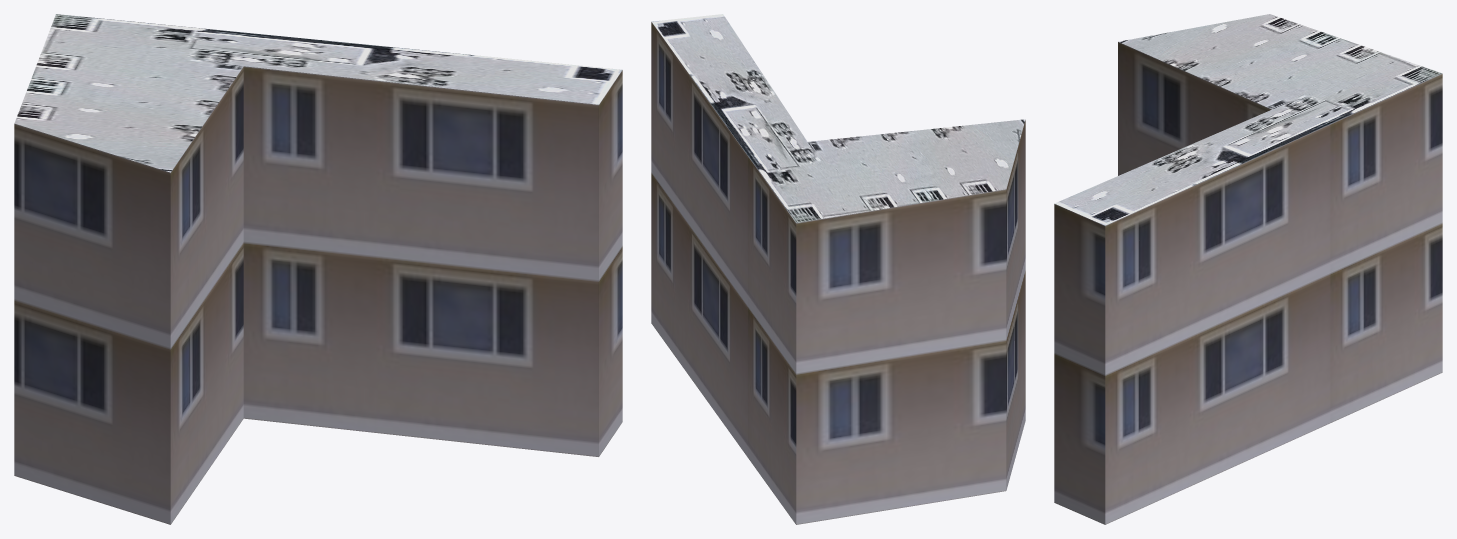
File: ResTex__3571.fbx
The picture shows the model from 3 angles, left to right: view 1: azimuth 30°, elevation 25°; view 2: azimuth 150°, elevation 25°; view 3: azimuth 270°, elevation 25°; orthographic projection. The views are drawn at different scales.
Parts seen in each view (by area): view 1: CityEngineMaterial_21_m, CityEngineMaterial_4_m; view 2: CityEngineMaterial_21_m, CityEngineMaterial_4_m; view 3: CityEngineMaterial_21_m, CityEngineMaterial_4_m.
Part boxes in pixels (box(x1,y1,x2,y2)): CityEngineMaterial_21_m: box(14, 66, 622, 524); CityEngineMaterial_4_m: box(14, 14, 622, 172); CityEngineMaterial_21_m: box(651, 22, 1025, 524); CityEngineMaterial_4_m: box(652, 14, 1025, 222); CityEngineMaterial_21_m: box(1054, 42, 1442, 524); CityEngineMaterial_4_m: box(1054, 14, 1442, 225).
Bounding box in the file's own units: 9.11 × 6 × 7.06.
Materials: 2 (2 with a texture image).
